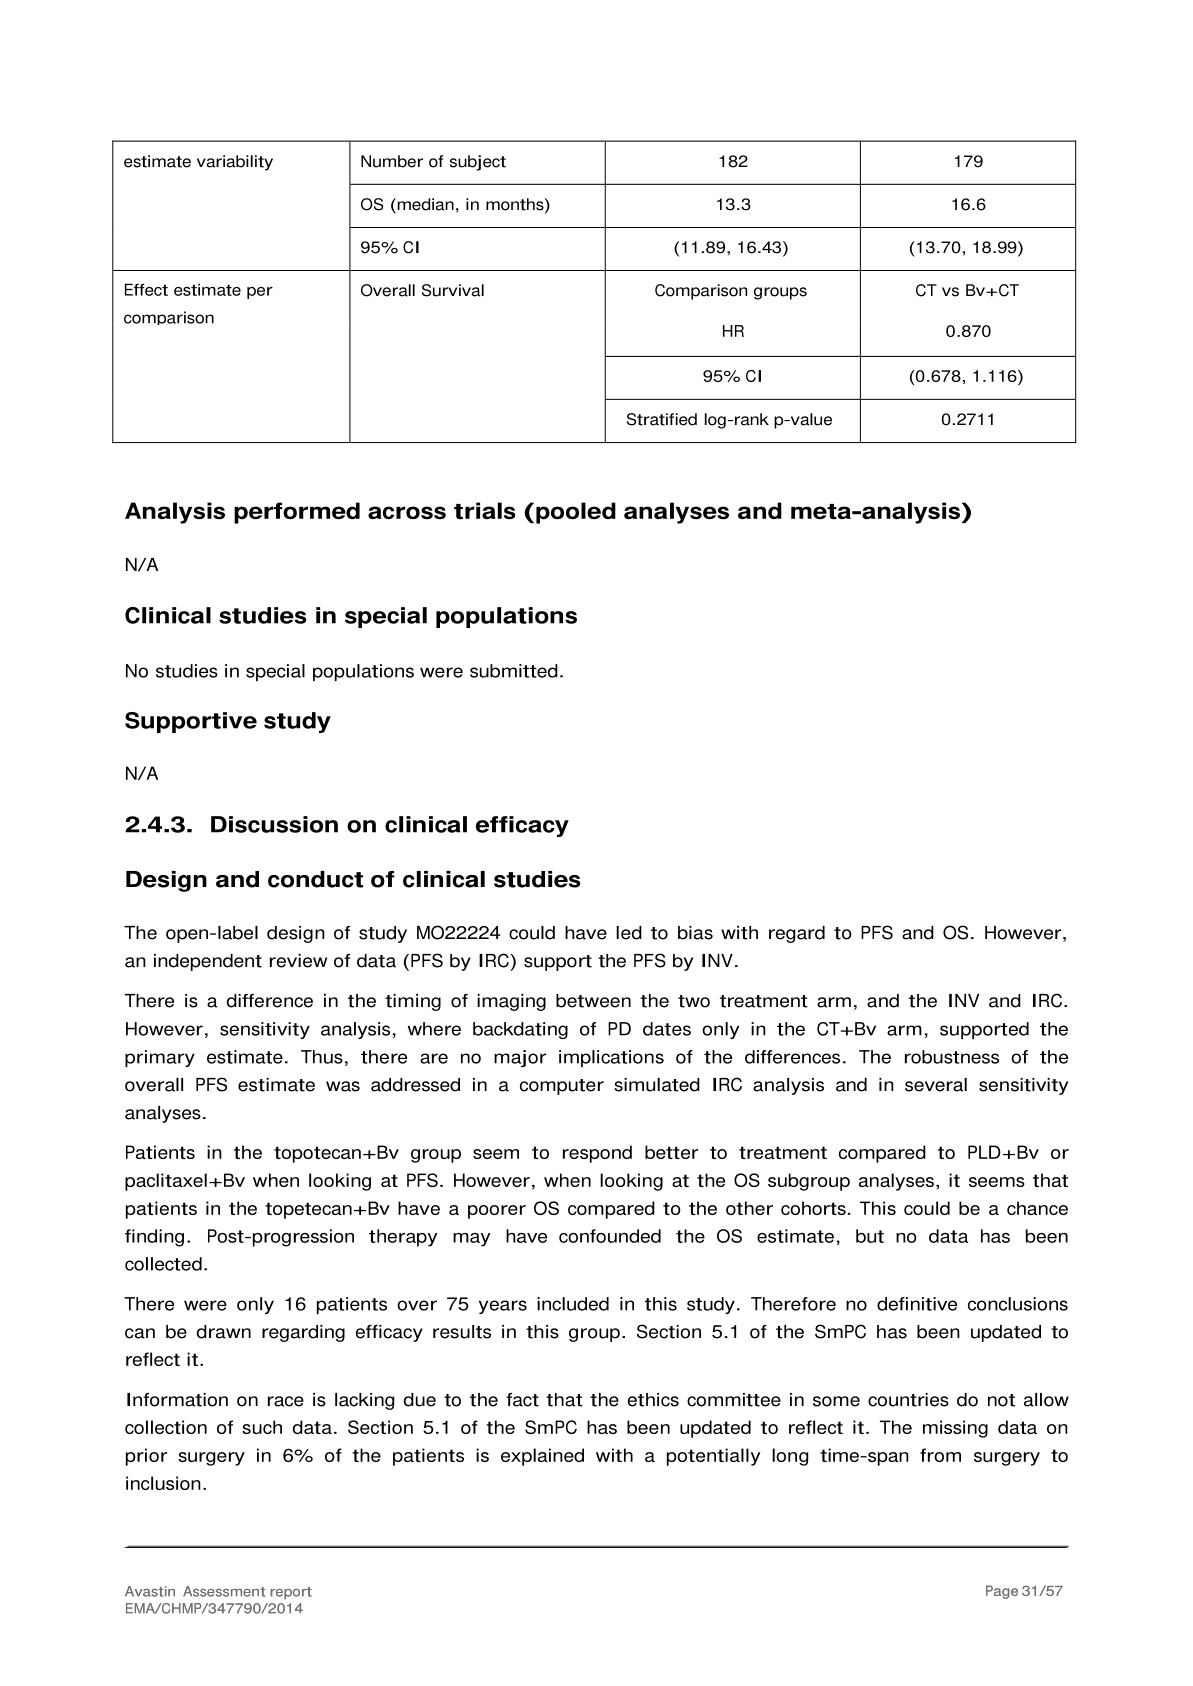merged_cells: (110, 139, 1077, 445)
